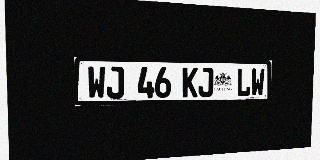4: (138, 67, 154, 98)
6: (155, 67, 171, 98)
J: (106, 66, 124, 99), (198, 67, 213, 97)
K: (182, 67, 198, 97)
L: (236, 68, 251, 97)
W: (87, 66, 106, 99), (251, 68, 265, 96)
